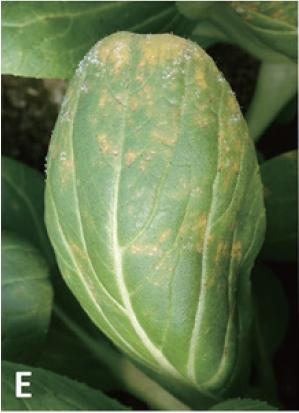Bok-Choy-Diseased: (37, 30, 277, 386)
